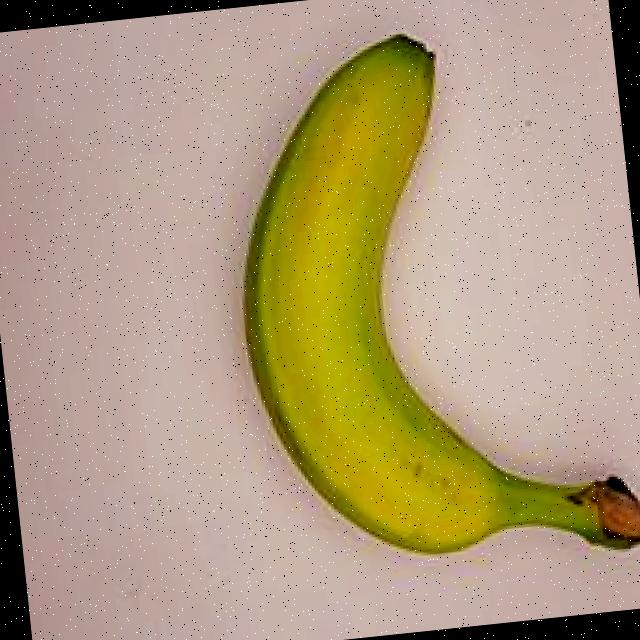Unripe: (181, 0, 640, 615)
